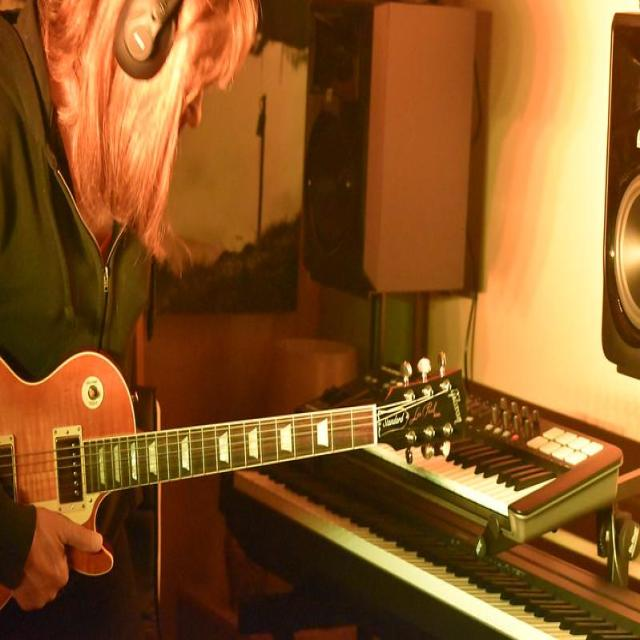guitar: (0, 352, 465, 528)
